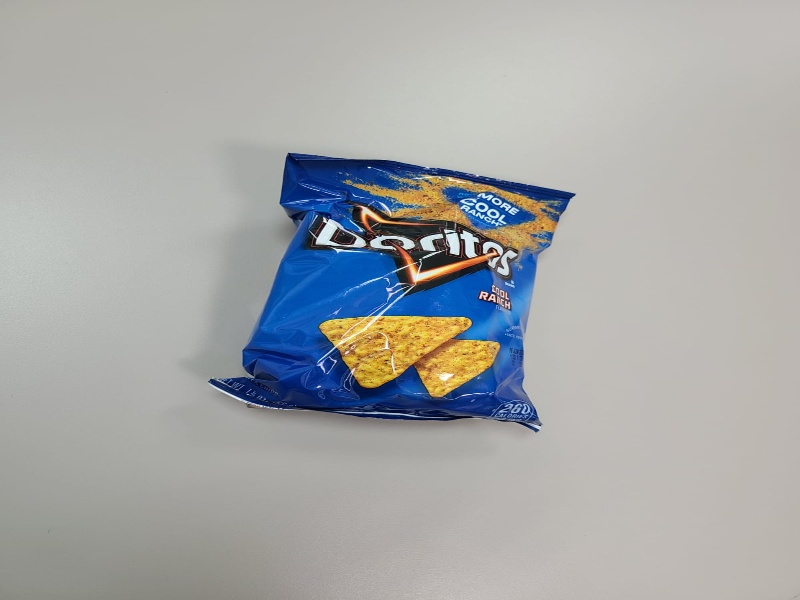doritos: (205, 151, 644, 414)
